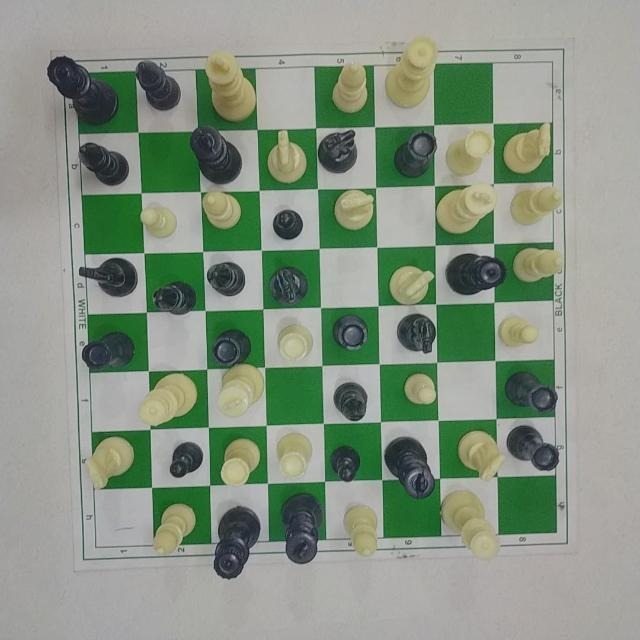black-bishop: (75, 140, 130, 188), (133, 59, 183, 111), (150, 279, 198, 317), (205, 260, 247, 298), (332, 380, 370, 422)
black-king: (382, 435, 438, 501), (188, 122, 244, 186), (279, 490, 325, 566)
black-knight: (76, 254, 140, 299), (315, 128, 359, 176), (395, 312, 437, 356), (267, 265, 309, 307)
black-pawn: (166, 440, 205, 480), (328, 443, 362, 483), (269, 208, 305, 242)
black-queen: (43, 52, 121, 127), (212, 503, 264, 581), (443, 251, 509, 297)
black-rook: (505, 423, 562, 473), (502, 369, 560, 415), (391, 128, 439, 180), (80, 330, 137, 372), (209, 328, 252, 368), (331, 313, 371, 353)
white-bishop: (150, 501, 198, 557), (507, 185, 565, 227), (330, 60, 370, 116), (341, 502, 381, 558), (511, 245, 566, 285), (200, 188, 243, 231)
white-king: (201, 48, 259, 126), (432, 181, 500, 238), (215, 362, 266, 420)
white-knight: (83, 433, 137, 492), (500, 120, 554, 175), (454, 428, 507, 484), (265, 128, 309, 186), (387, 263, 436, 306), (331, 186, 375, 231)
white-pawn: (496, 314, 540, 348), (139, 203, 179, 240), (401, 371, 438, 408)
white-queen: (438, 486, 502, 563), (383, 34, 439, 111), (136, 370, 200, 428)
white-rook: (444, 127, 496, 177), (217, 436, 262, 488), (273, 429, 314, 482), (275, 322, 315, 363)
